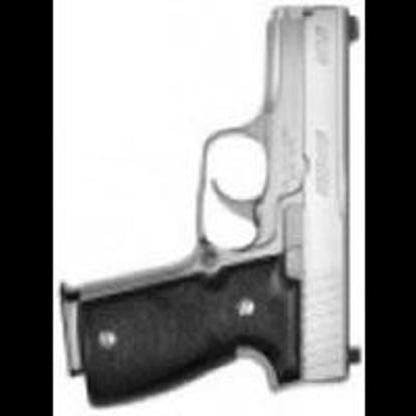weapon: (57, 5, 361, 407)
